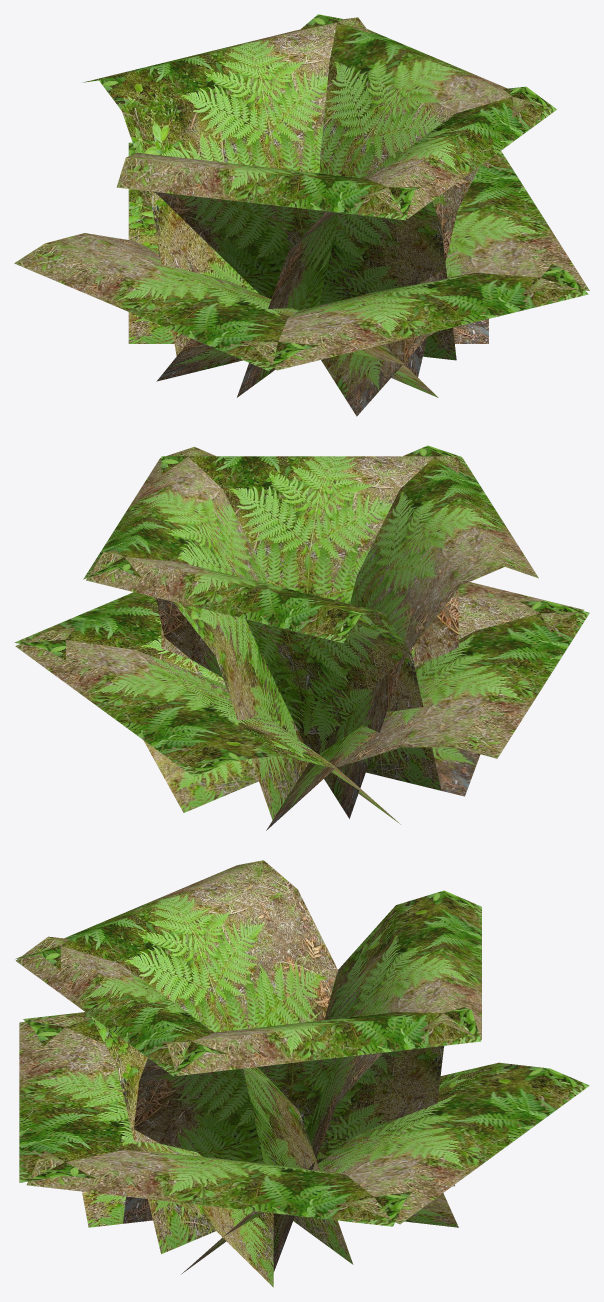
File: Model_Plant_20.fbx
3 renders of one model, top to bottom at view 1: azimuth 30°, elevation 25°; view 2: azimuth 150°, elevation 25°; view 3: azimuth 270°, elevation 25°, orthographic. The views are drawn at different scales.
Visible parts, largest first — view 1: Plant_20; view 2: Plant_20; view 3: Plant_20.
Boxes of the visible parts, x1,y1,x2,y2 form: Plant_20: [14, 14, 589, 416]; Plant_20: [14, 445, 589, 830]; Plant_20: [15, 860, 589, 1287].
Bounding box in the file's own units: 149 × 69.31 × 145.
